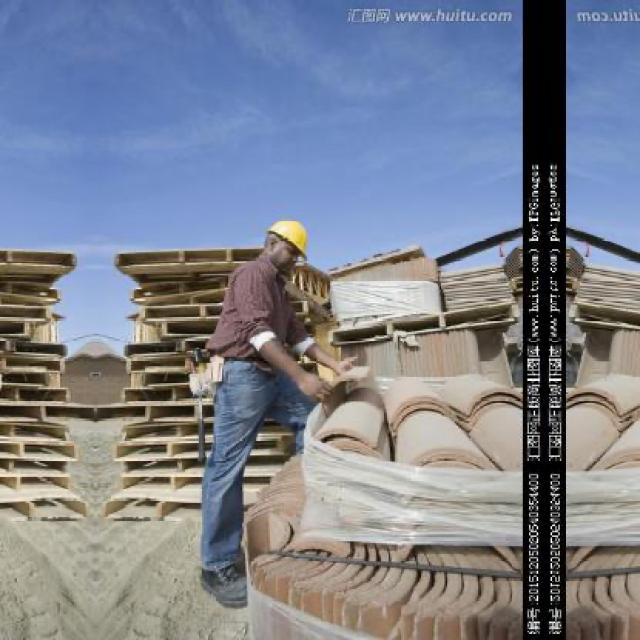helmet: (264, 211, 312, 277)
